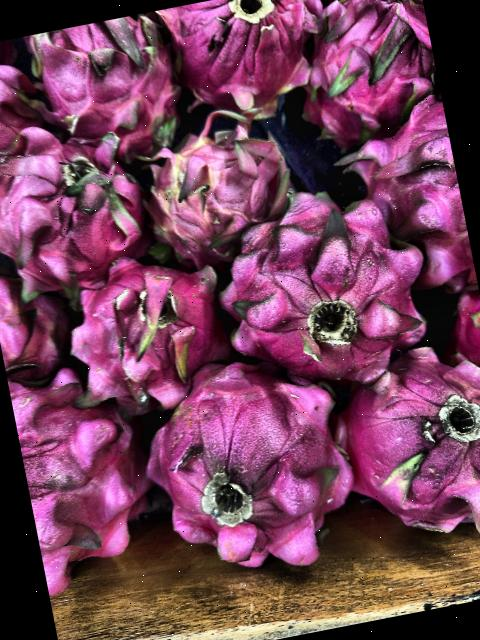buah-naga-belum-matang: (131, 106, 303, 264)
buah-naga-matang: (126, 342, 368, 588), (212, 190, 430, 392), (5, 346, 174, 603), (325, 337, 480, 557), (0, 111, 154, 299), (336, 87, 474, 289), (58, 256, 230, 415), (25, 14, 188, 164), (157, 0, 327, 137), (292, 0, 443, 137), (0, 36, 58, 211), (0, 249, 72, 382)
